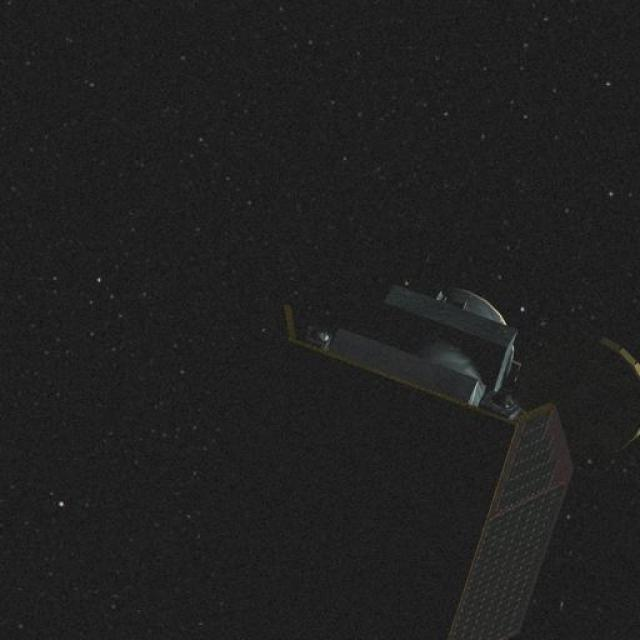debris: (224, 250, 622, 640)
